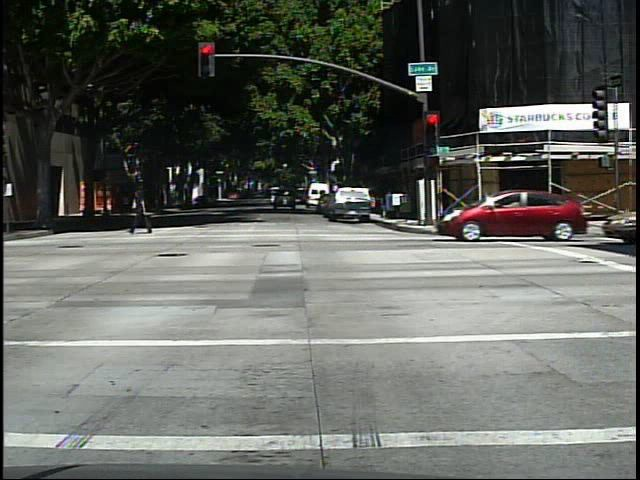person: (127, 183, 161, 235)
